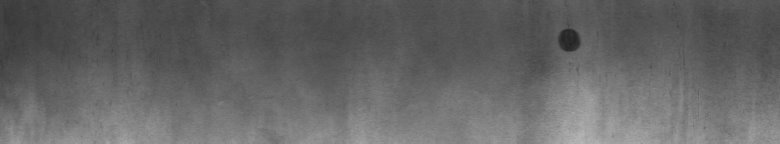fi: (553, 24, 585, 60)
